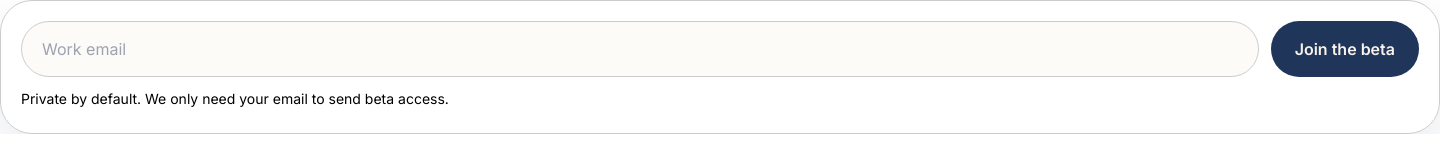
Test: BetaSignupForm › submits successfully and renders a confirmation message
The width and height of the screenshot is (1440, 160).
Type "leo@example.com" into the field named "email address" at (640,49), box left=21, top=21, right=1259, bottom=77
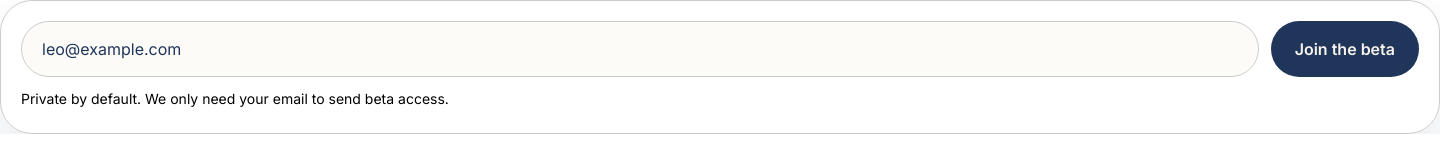
Click the button "Join the beta" at (1345,49), box left=1271, top=21, right=1419, bottom=77
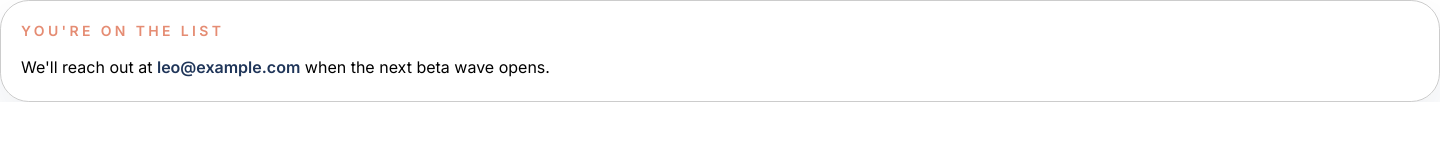
Now the text "You're on the list" is shown, box left=21, top=22, right=224, bottom=39
Now the text "leo@example.com" is shown, box left=157, top=57, right=300, bottom=77
